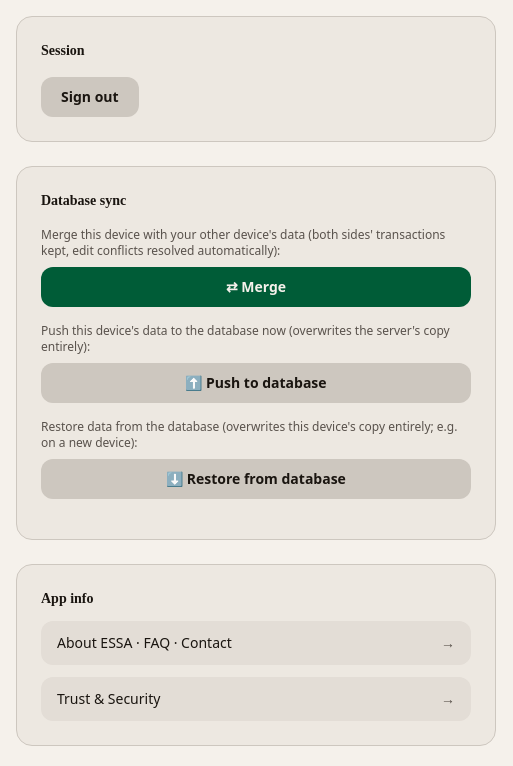
an ordinary push says what it said
The width and height of the screenshot is (513, 766).
(page scrolled)
What coordinates should you click on to do the following:
click the button "⬆ Push to database"
I would click on:
 (256, 382)
Its box is [41,362,471,402].
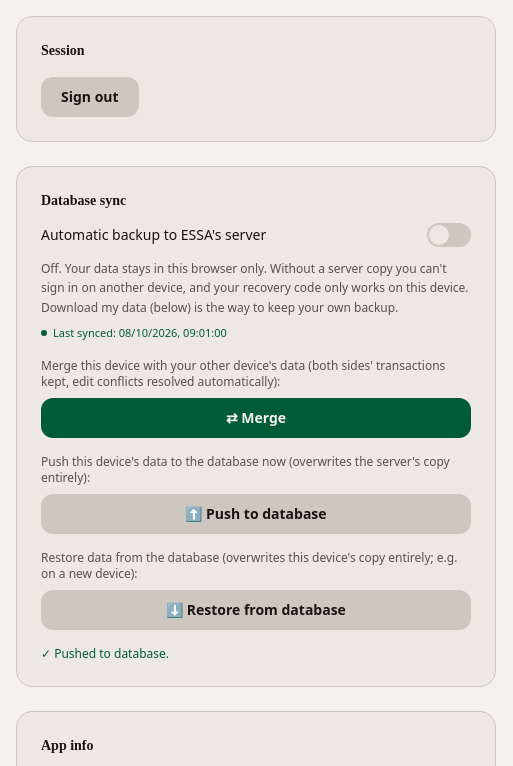
Expected: the text "✓ Pushed to database." is shown, [41,644,169,662]
